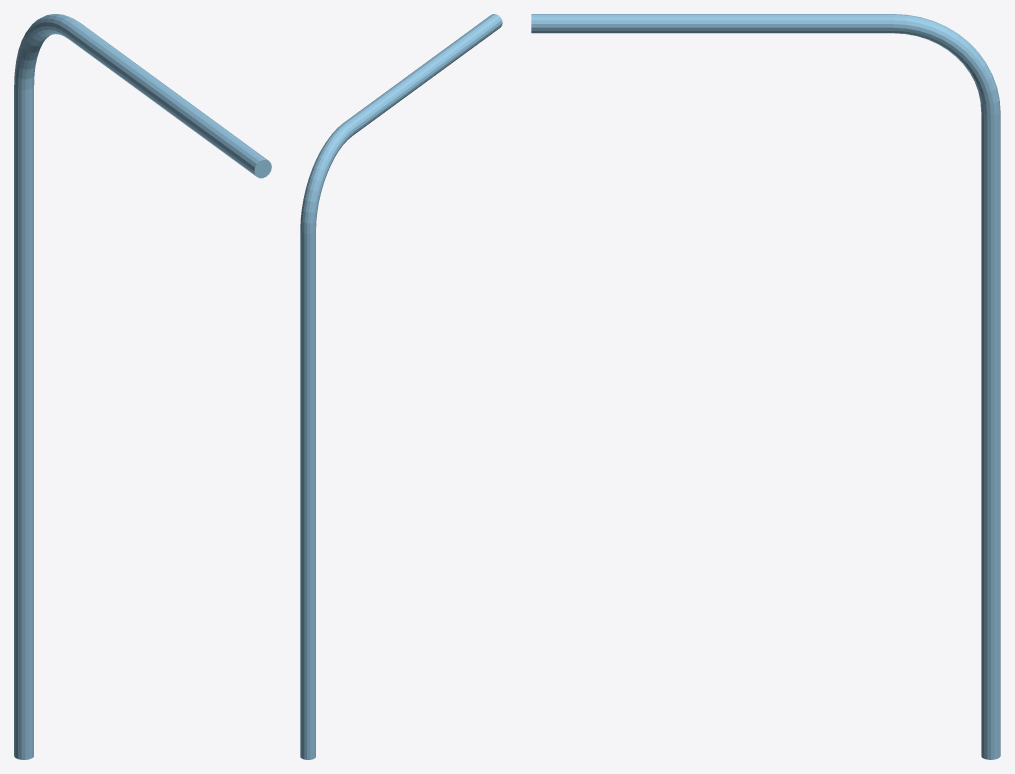
Rendered from Pillar.fbx.
3 renders of one model, left to right at view 1: azimuth 30°, elevation 25°; view 2: azimuth 150°, elevation 25°; view 3: azimuth 270°, elevation 25°, orthographic. The views are drawn at different scales.
Visible parts, largest first — view 1: Cylinder; view 2: Cylinder; view 3: Cylinder.
Part boxes in pixels (x1,y1,x2,y2): Cylinder: [14, 14, 271, 759]; Cylinder: [300, 14, 502, 759]; Cylinder: [531, 14, 1000, 759].
Size of the model in its own units: 200 by 8412 by 4828.
